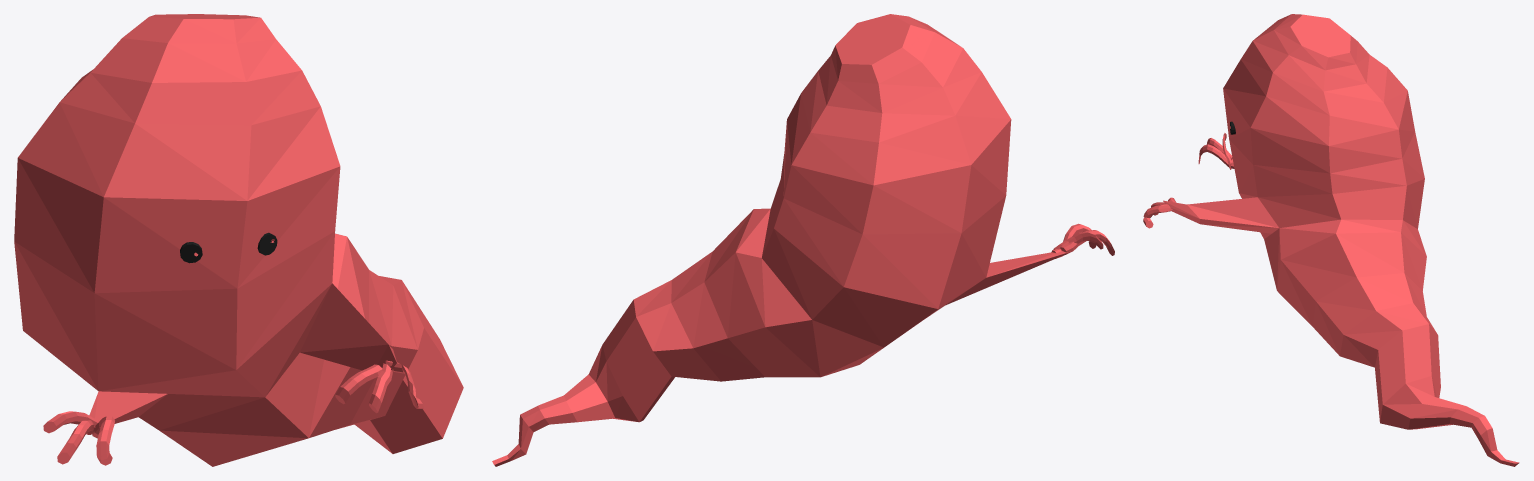
The model's file is ghost1.glb.
The picture shows the model from 3 angles, left to right: view 1: azimuth 30°, elevation 25°; view 2: azimuth 150°, elevation 25°; view 3: azimuth 270°, elevation 25°; orthographic projection. The views are drawn at different scales.
Visible parts, largest first — view 1: group473796594; view 2: group473796594; view 3: group473796594.
Boxes of the visible parts, x1,y1,x2,y2 form: group473796594: (14,14,463,466); group473796594: (492,14,1114,466); group473796594: (1143,14,1519,466).
Bounding box in the file's own units: 1.55 × 1.42 × 1.43.
